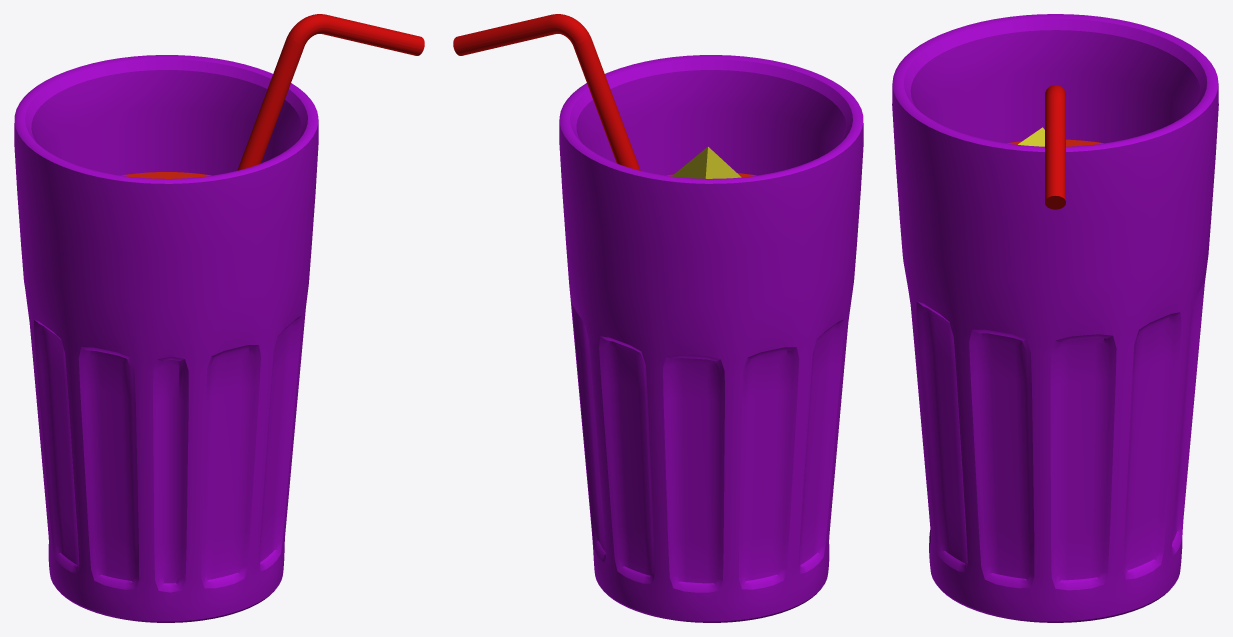
The model's file is Lemonade und Ananas.fbx.
3 views of the same model, side by side, from view 1: azimuth 30°, elevation 25°; view 2: azimuth 150°, elevation 25°; view 3: azimuth 270°, elevation 25° (orthographic). The views are drawn at different scales.
Visible parts, largest first — view 1: Glas, Strohhalm; view 2: Glas, Strohhalm, Cube.003; view 3: Glas, Strohhalm.
Part boxes in pixels (x1,y1,x2,y2): Glas: [14, 55, 318, 622]; Strohhalm: [237, 14, 424, 170]; Glas: [559, 55, 863, 622]; Strohhalm: [453, 14, 640, 170]; Cube.003: [672, 147, 741, 178]; Glas: [892, 14, 1218, 622]; Strohhalm: [1045, 85, 1065, 209].
Size of the model in its own units: 0.1775 by 0.229 by 0.1208.
